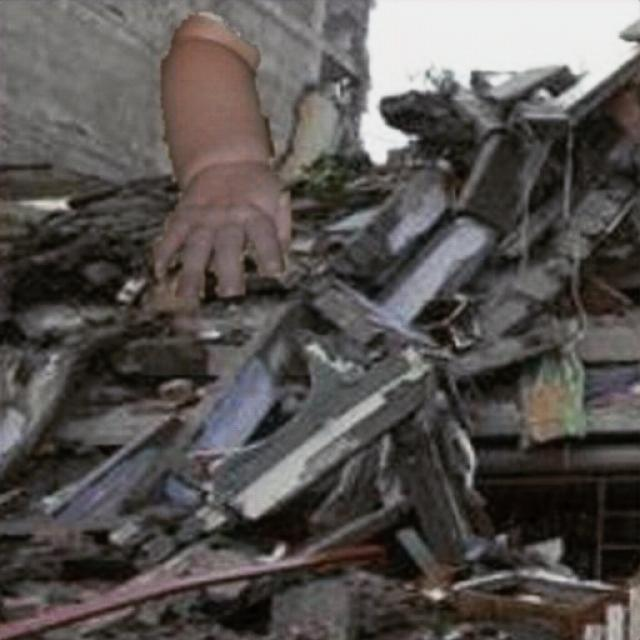Person in Rubble: (151, 12, 290, 296)
